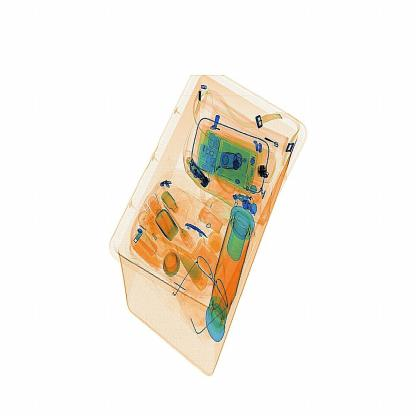scissors: (257, 161, 271, 185)
